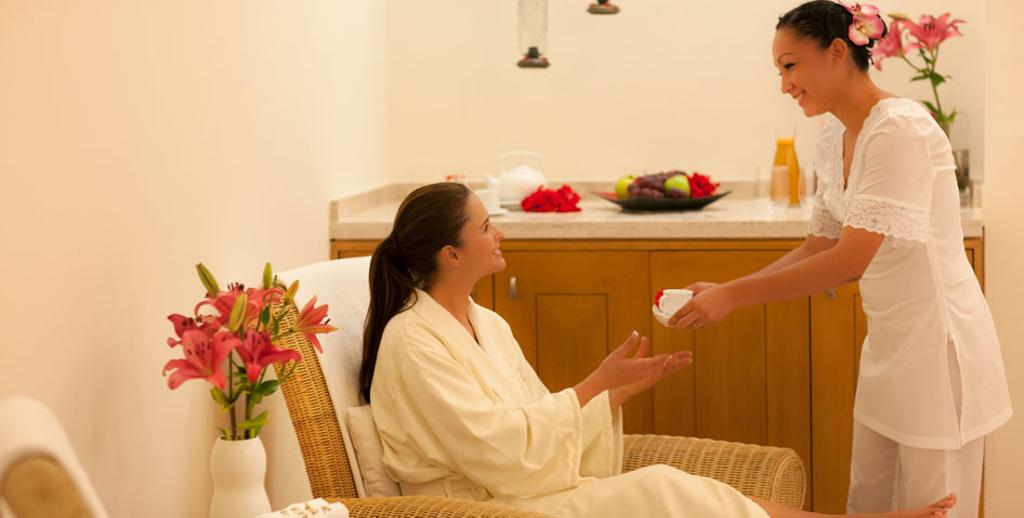face: (771, 33, 826, 119), (460, 189, 504, 270)
